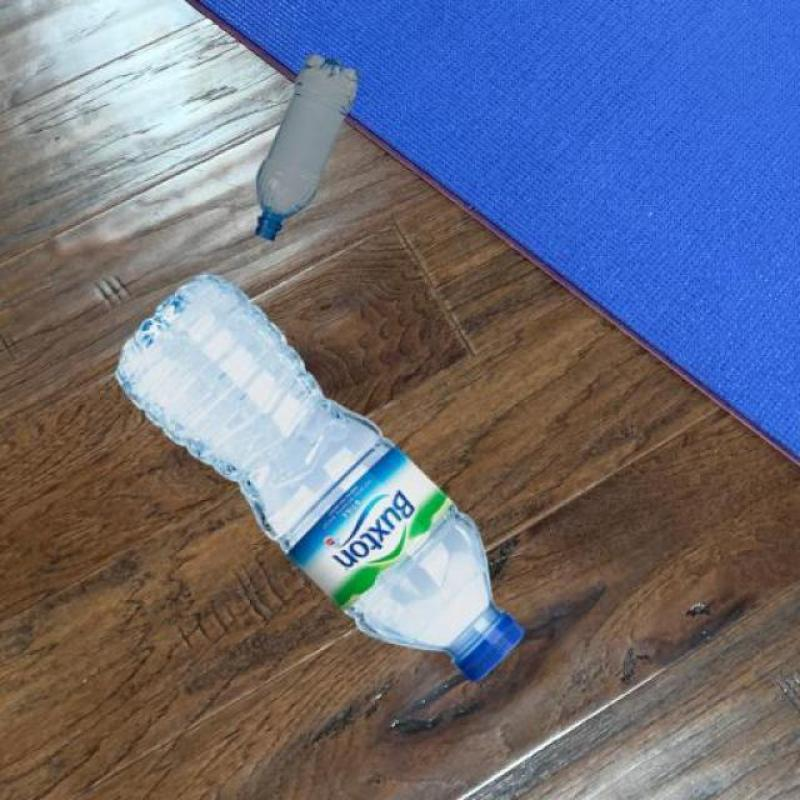botella: (114, 272, 525, 684), (254, 54, 360, 241)
